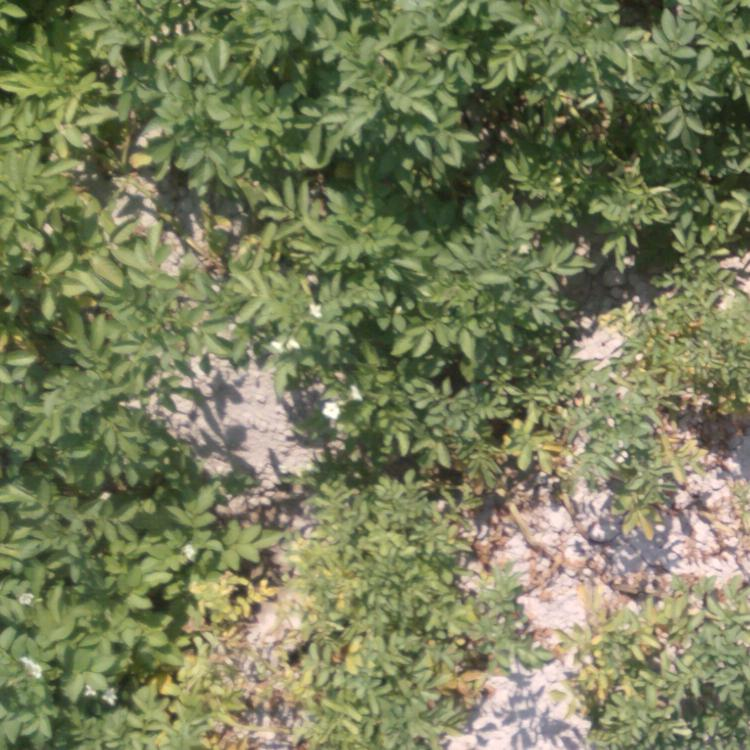healthy: (1, 483, 390, 747), (1, 1, 238, 365), (3, 362, 342, 478), (603, 490, 750, 750), (238, 154, 387, 350), (239, 1, 370, 144)
stressed: (473, 116, 750, 366), (411, 479, 590, 750), (397, 361, 593, 480), (553, 8, 750, 117)
